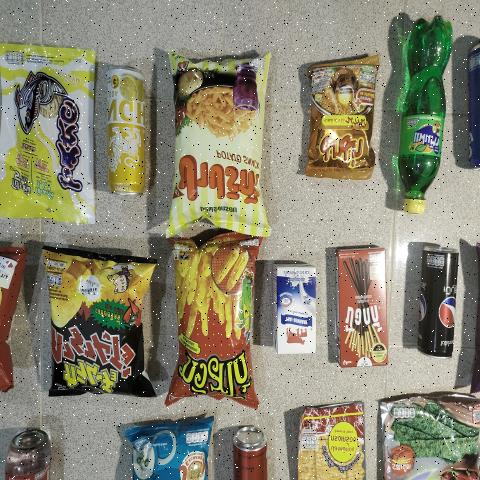fanta_green: (392, 12, 453, 216)
karamujo: (50, 259, 145, 396)
mama: (309, 66, 377, 184)
paprika: (167, 56, 267, 230)
pepsi_black: (419, 248, 461, 356)
pokki: (338, 246, 387, 366)
singha_yellow: (106, 66, 147, 201)
taro_yellow: (0, 45, 91, 224)
thai_denmark: (271, 264, 318, 353)
twisco: (177, 247, 253, 398)
